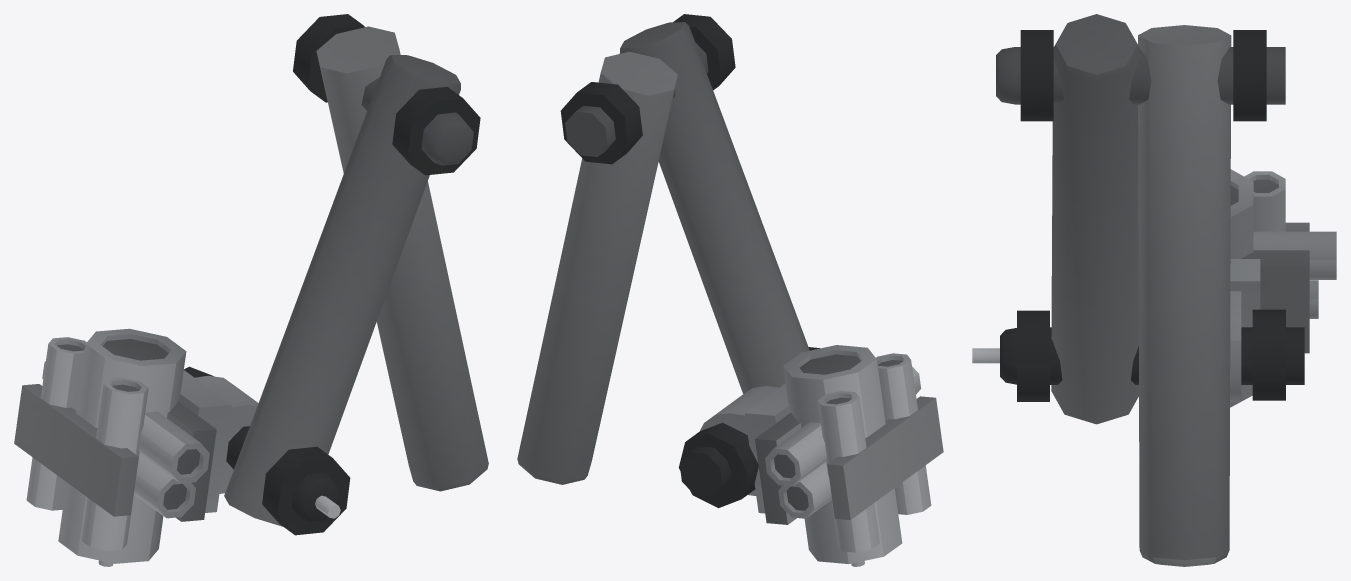
The picture shows the model from 3 angles, left to right: view 1: azimuth 30°, elevation 25°; view 2: azimuth 150°, elevation 25°; view 3: azimuth 270°, elevation 25°; orthographic projection. The views are drawn at different scales.
Parts seen in each view (by area): view 1: CURIOSITY ROVER.001_4; view 2: CURIOSITY ROVER.001_4; view 3: CURIOSITY ROVER.001_4.
Part boxes in pixels (x1,y1,x2,y2): CURIOSITY ROVER.001_4: (14, 14, 488, 566); CURIOSITY ROVER.001_4: (517, 14, 943, 566); CURIOSITY ROVER.001_4: (972, 14, 1336, 566).
Size of the model in its own units: 1.18 by 1.3 by 0.8331.
Materials: 1 (1 with a texture image).
